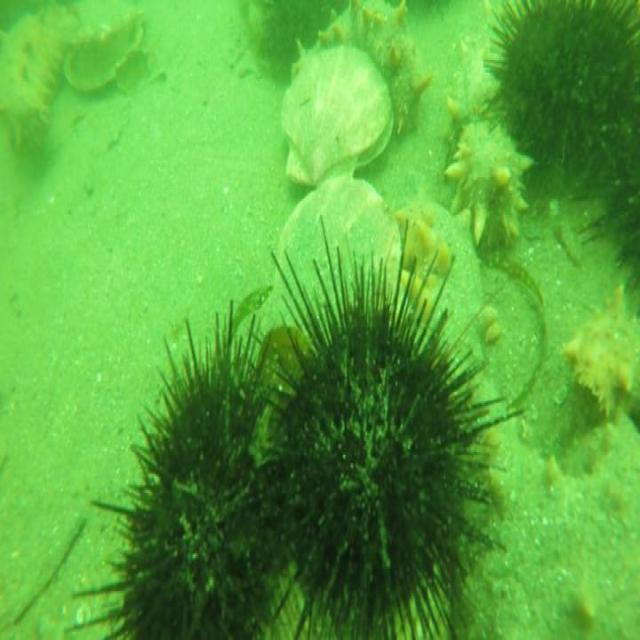echinus: (261, 232, 519, 640), (92, 294, 292, 640), (489, 0, 639, 213), (580, 43, 640, 280), (260, 0, 348, 73)
holothurian: (397, 194, 640, 640), (442, 27, 534, 251), (316, 0, 431, 134), (0, 0, 78, 149), (564, 281, 640, 427)
scallop: (277, 44, 394, 188), (273, 175, 403, 304), (64, 9, 145, 98)
